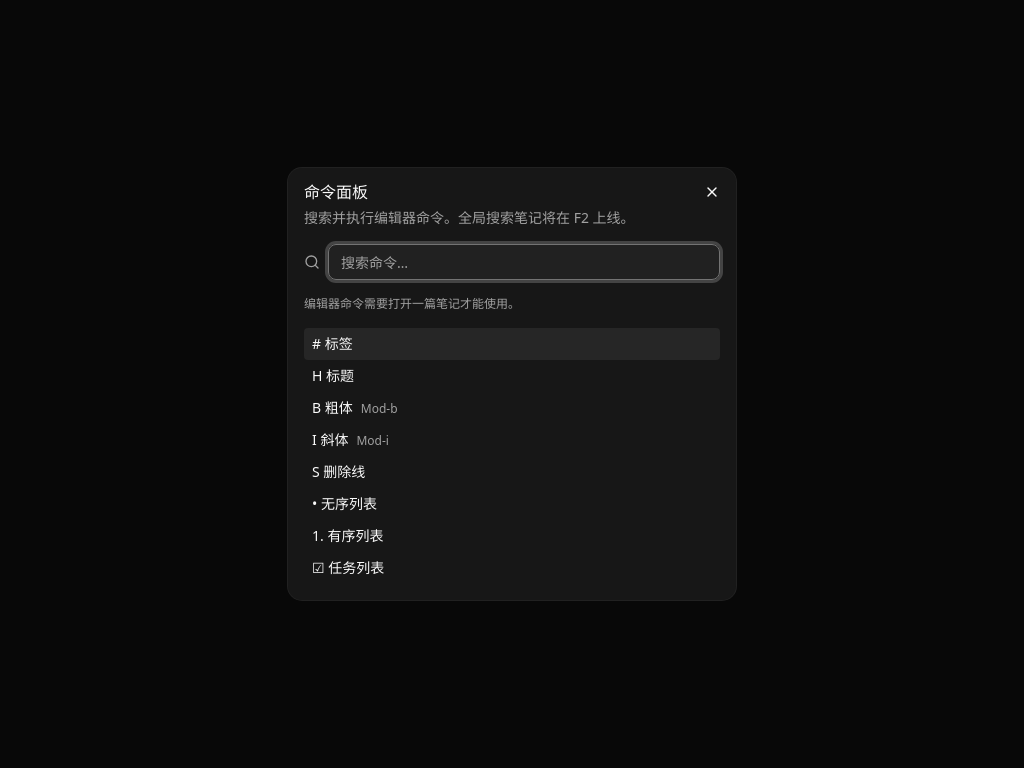
Test: CommandPalette › 搜索无结果时给出提示
Type "不存在的命令xyz" into the field labelled "搜索命令" at x=524, y=262, box [328,244,720,280]
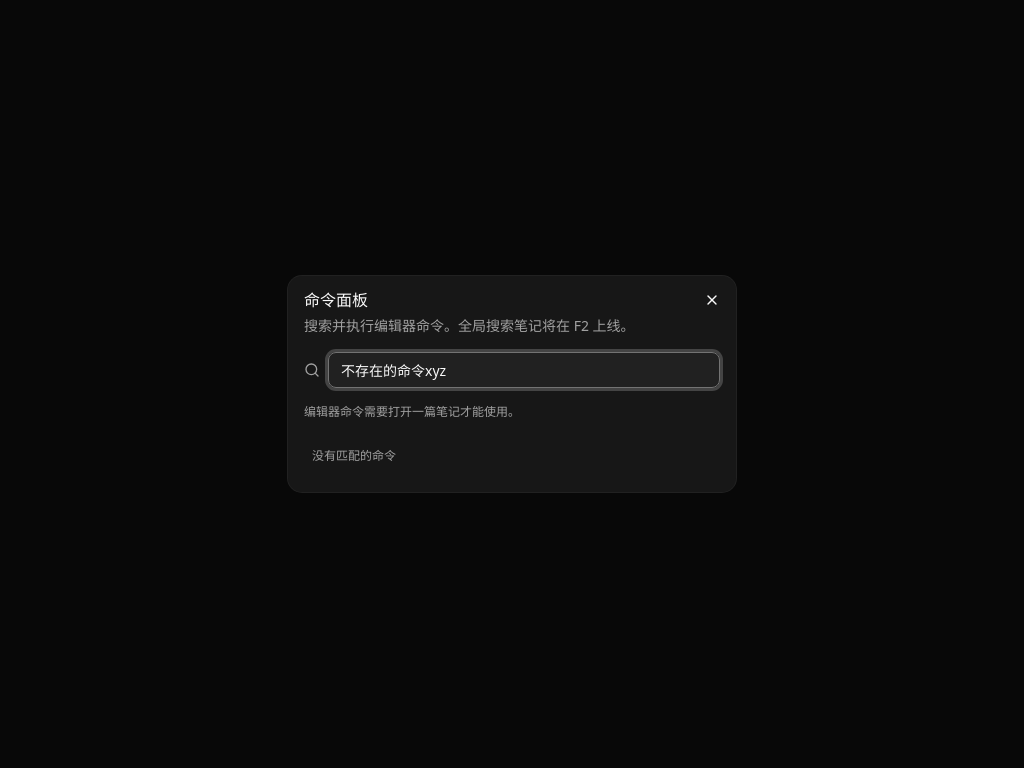
Now the list item "没有匹配的命令" is shown, box [312,447,396,464]
